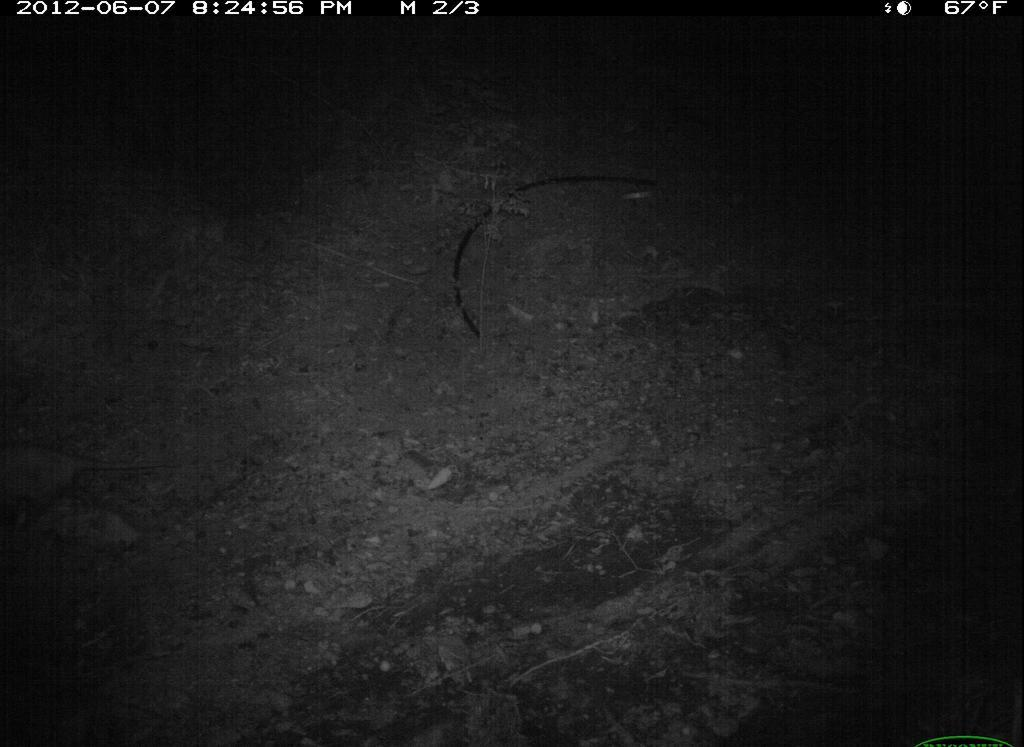opossum: (8, 438, 180, 546)
